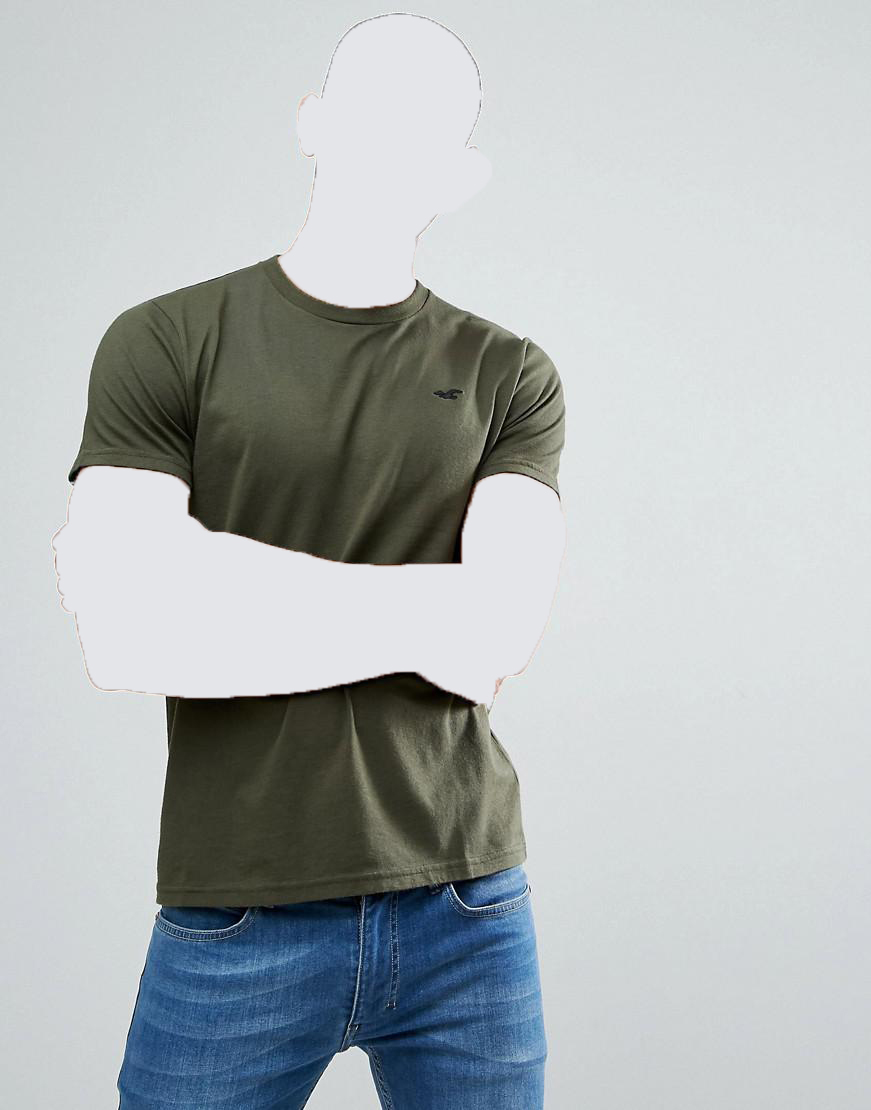teeshirt: (57, 256, 585, 900)
